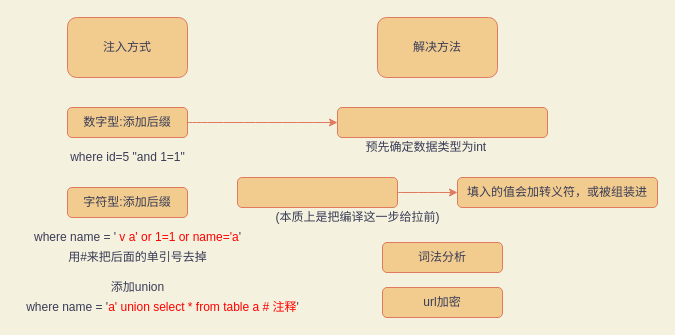
This 675x335 diagram has some shape labels left out. Here are the shapes that lost their labels. From the top down, the centre of each, then its label:
pixel 442 122: 使用强类型语言而不是ASP/PHP/JSP
pixel 317 192: 使用预准备语句/参数化查询
